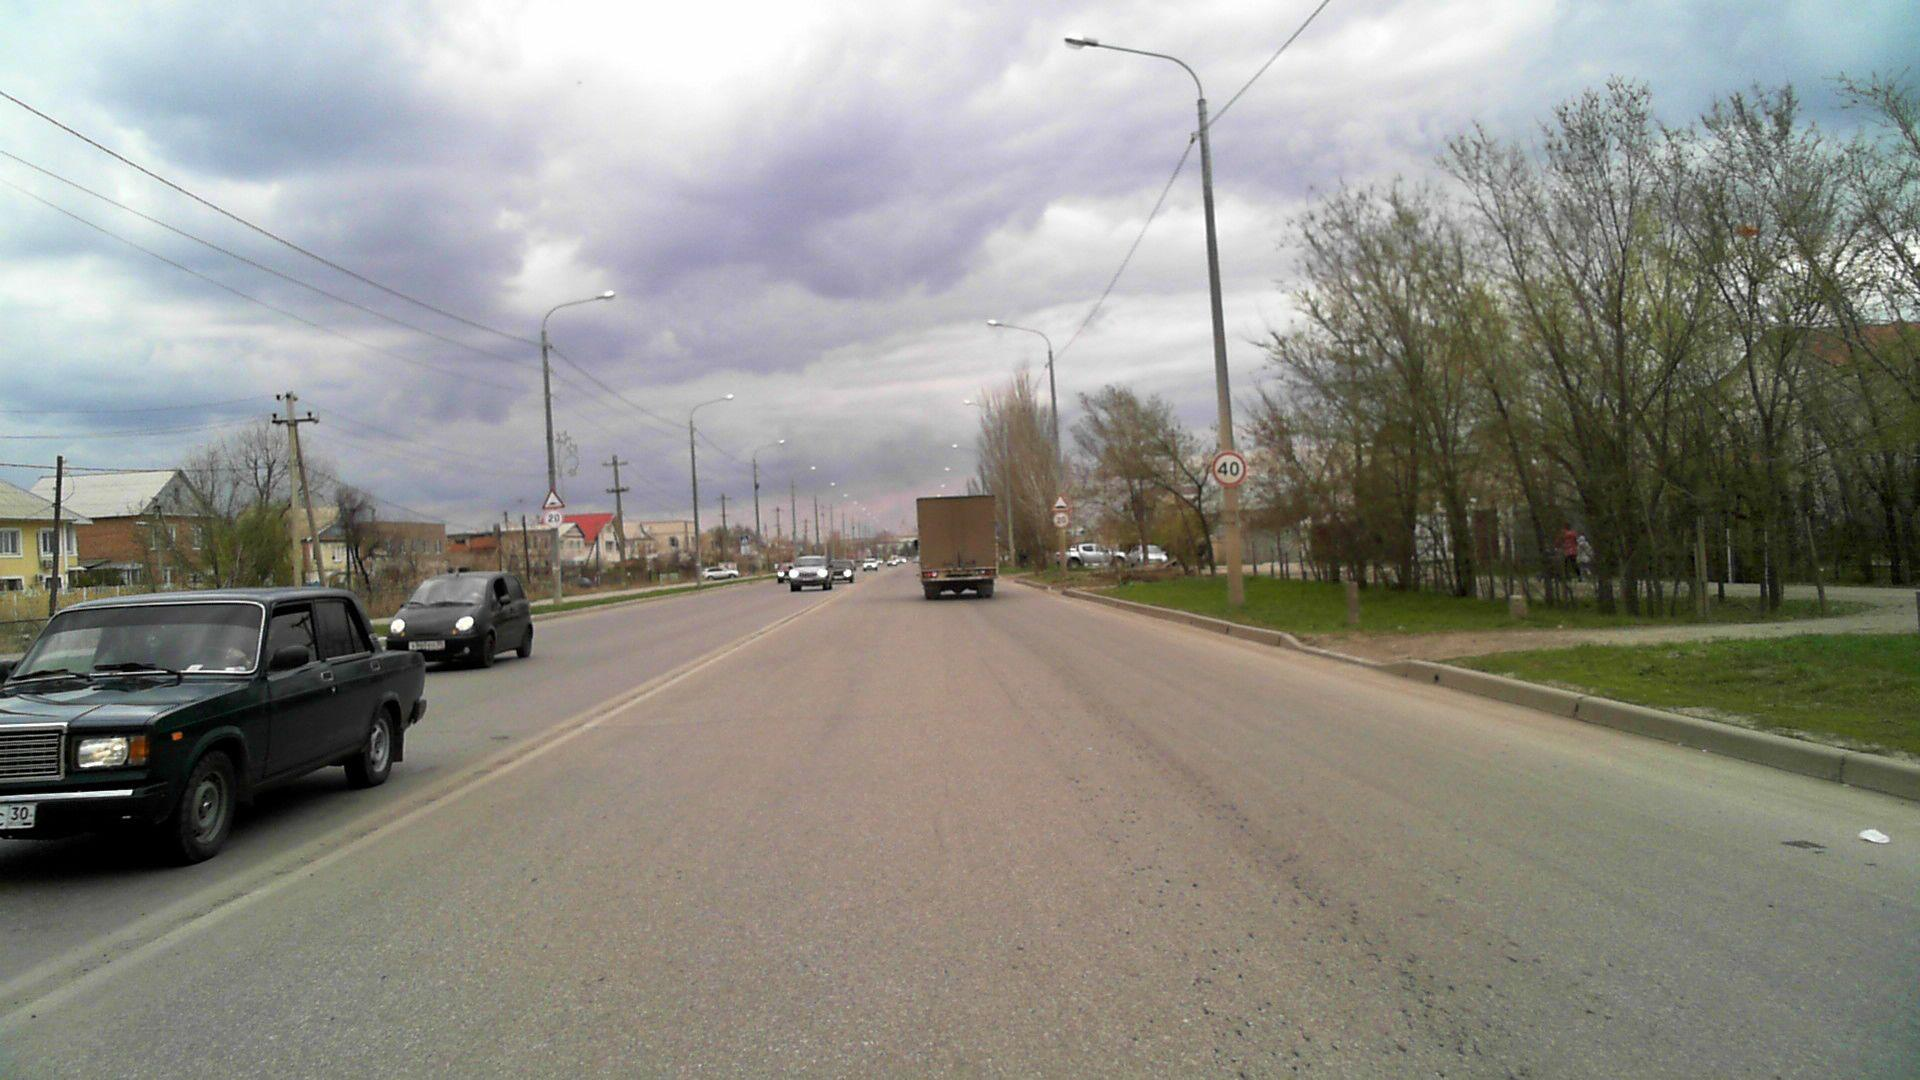1_17: (541, 488, 566, 509), (1051, 495, 1069, 510)
3_24: (1211, 450, 1246, 487), (543, 510, 564, 529), (1052, 512, 1069, 527)
5_19_2: (740, 534, 749, 545)
